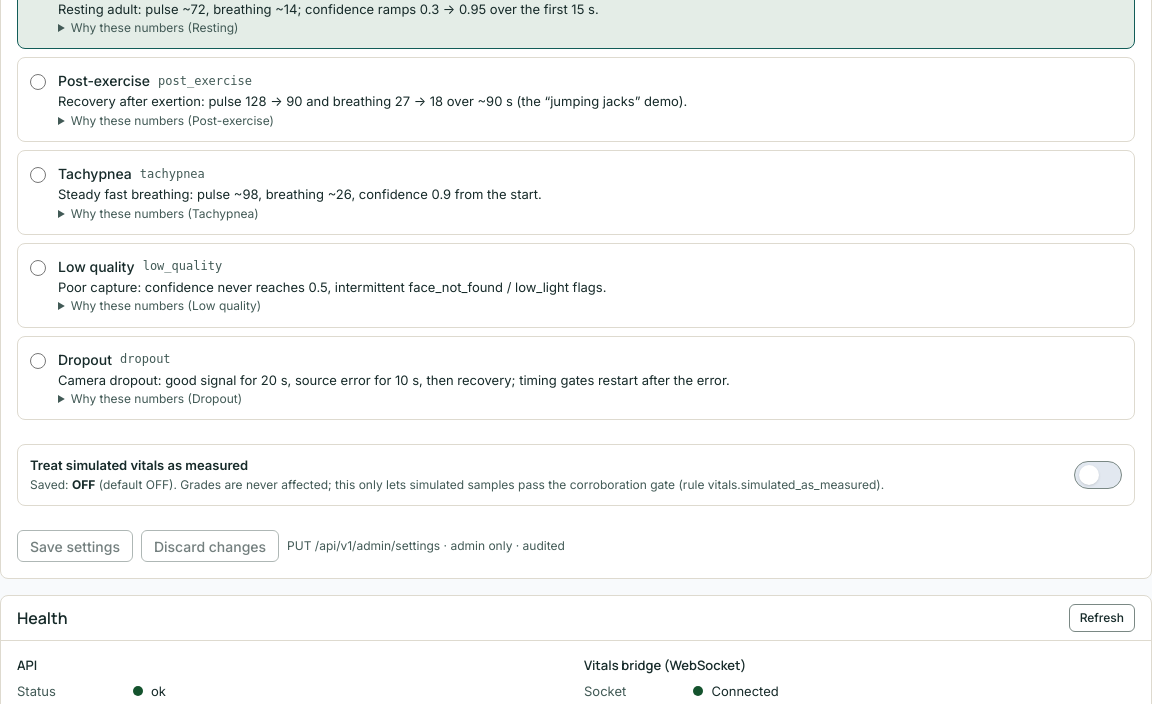
Scenario: Admin page › Discard changes restores the saved values
(page scrolled)
Click the radio button labelled "Dropout": click(38, 361) [30,353,46,369]
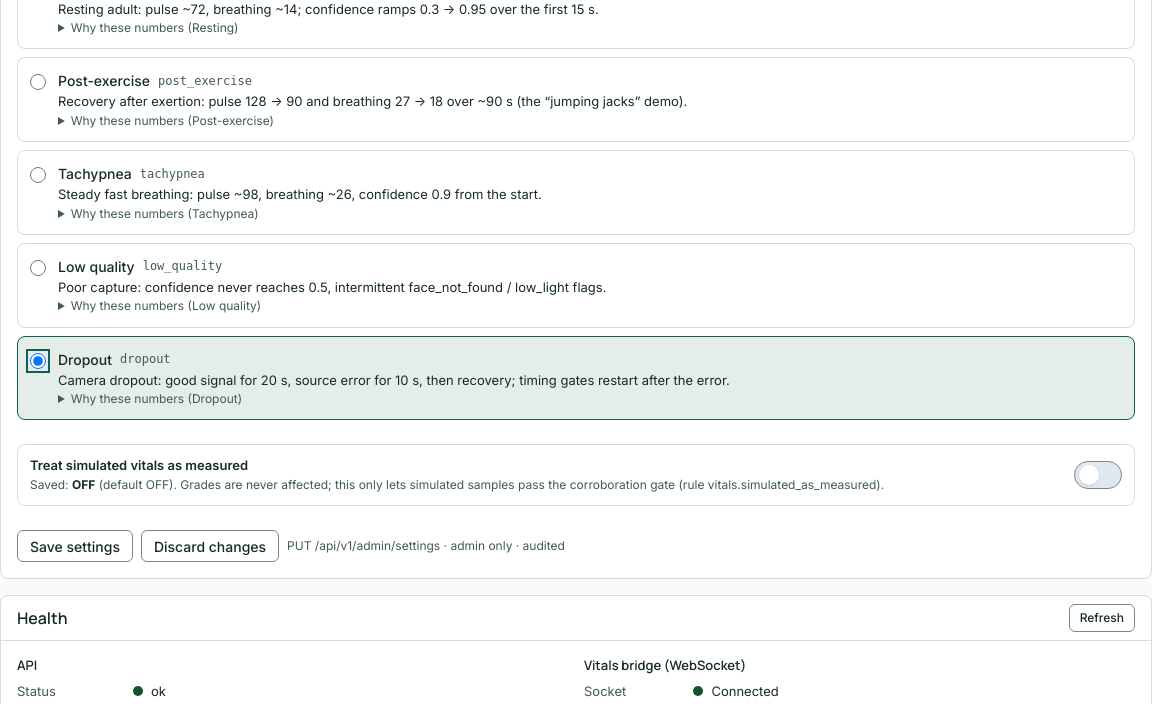
Click the switch named "Treat simulated vitals as measured": click(1098, 475) [1074,461,1122,489]
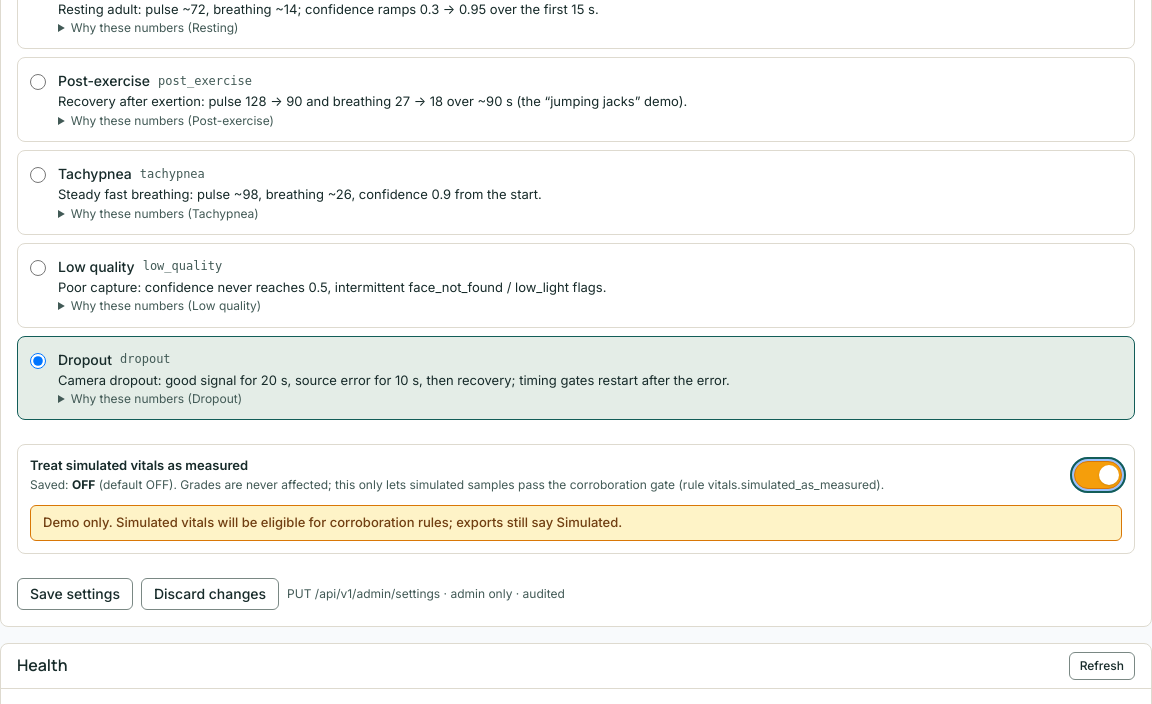
Click the button "Discard changes": click(210, 594) [141,578,279,610]
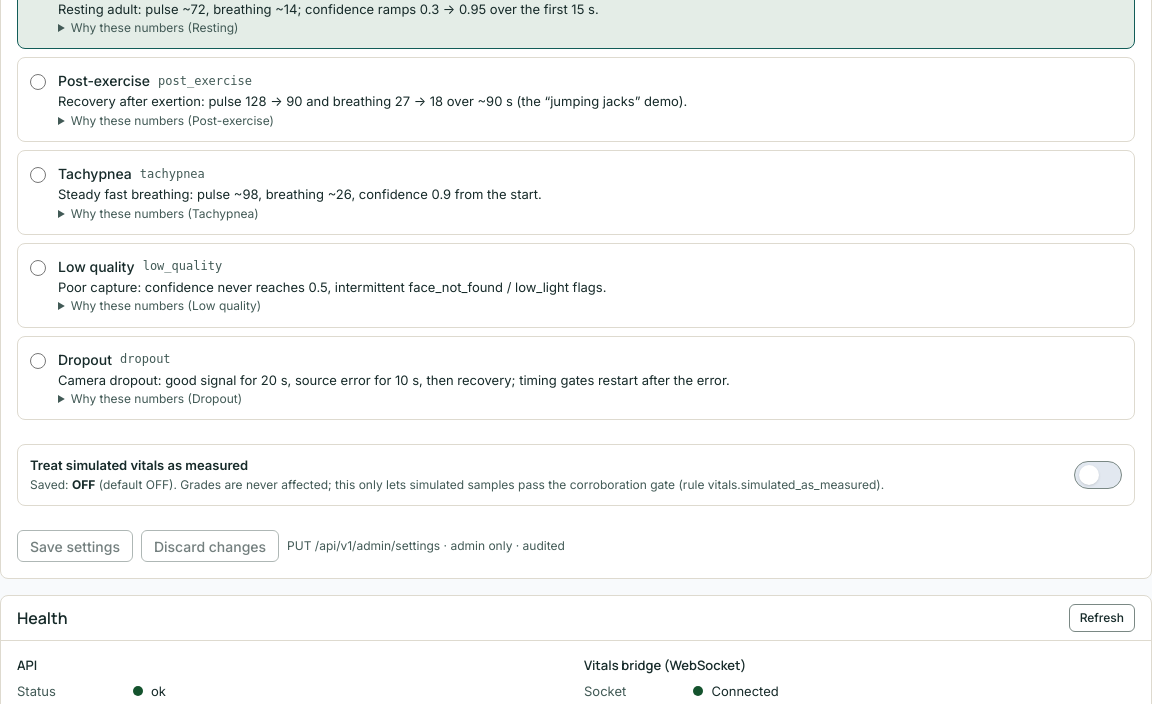
Result: the text "Demo only. Simulated vitals will be eligible for corroboration rules; exports still say Simulated." is gone
Result: the button "Save settings" is disabled at [17,530,133,562]
Result: the button "Discard changes" is disabled at [141,530,279,562]
